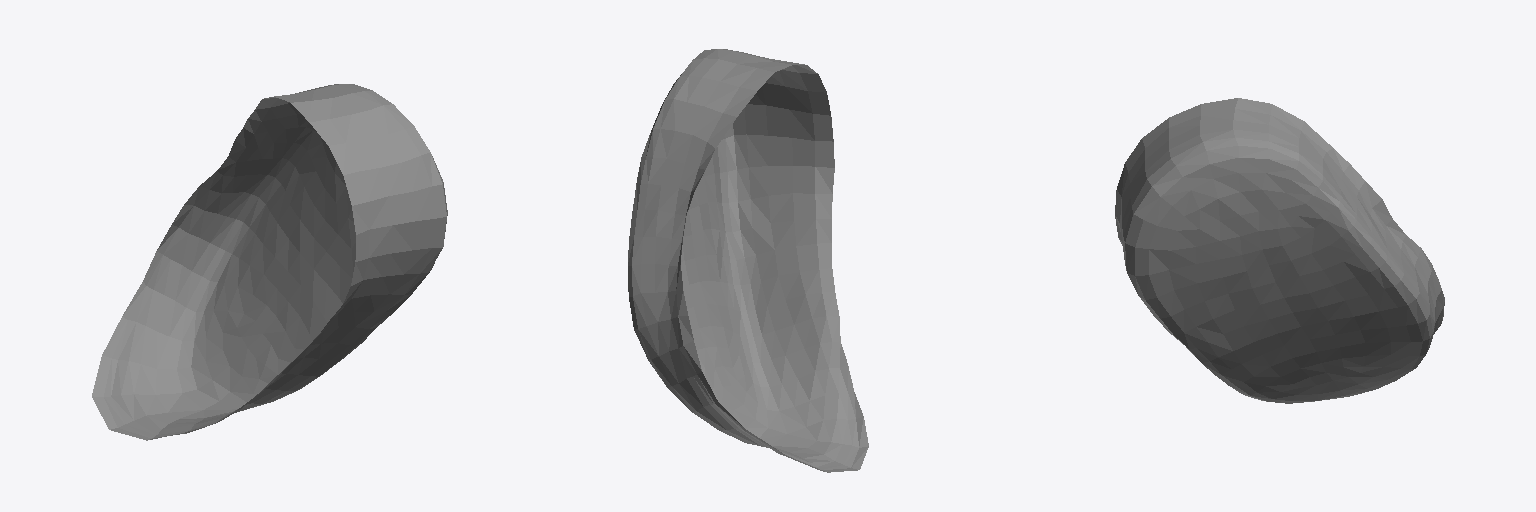
File: left_grip.obj
3 views of the same model, side by side, from view 1: azimuth 30°, elevation 25°; view 2: azimuth 150°, elevation 25°; view 3: azimuth 270°, elevation 25° (orthographic).
Visible parts, largest first — view 1: left_grip Mesh; view 2: left_grip Mesh; view 3: left_grip Mesh.
Part boxes in pixels (x1,y1,x2,y2): left_grip Mesh: (92, 84, 447, 440); left_grip Mesh: (628, 49, 868, 472); left_grip Mesh: (1115, 98, 1444, 403).
Bounding box in the file's own units: 0.0163 × 0.0215 × 0.0195.